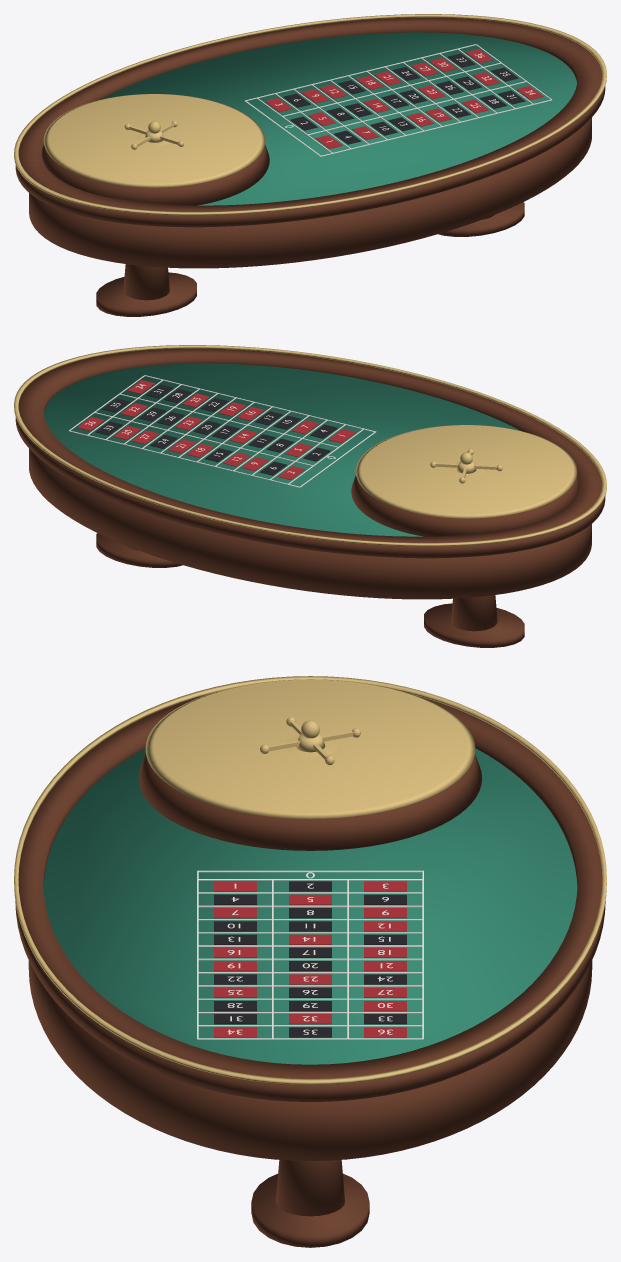
The model's file is roulette.glb.
3 views of the same model, one above another, from view 1: azimuth 30°, elevation 25°; view 2: azimuth 150°, elevation 25°; view 3: azimuth 270°, elevation 25° (orthographic). The views are drawn at different scales.
Visible parts, largest first — view 1: feltTop, rim, skirt, wheelRim, rimBrass, wheelBowl, legFoot, legShaft, legFoot.001; view 2: feltTop, rim, skirt, wheelRim, rimBrass, wheelBowl, legFoot, legShaft, legFoot.001; view 3: feltTop, rim, wheelRim, skirt, wheelBowl, rimBrass, legFoot.001, legShaft.001.
Part boxes in pixels (x1,y1,x2,y2): feltTop: [100, 32, 576, 205]; rim: [15, 17, 605, 227]; skirt: [29, 118, 591, 268]; wheelRim: [43, 94, 265, 187]; rimBrass: [14, 14, 606, 215]; wheelBowl: [41, 144, 269, 205]; legFoot: [96, 272, 196, 316]; legShaft: [123, 264, 169, 300]; legFoot.001: [438, 202, 524, 236]; feltTop: [44, 363, 520, 536]; rim: [15, 348, 605, 558]; skirt: [29, 449, 591, 599]; wheelRim: [355, 425, 577, 518]; rimBrass: [14, 345, 606, 546]; wheelBowl: [351, 475, 579, 536]; legFoot: [424, 603, 524, 647]; legShaft: [451, 595, 497, 631]; legFoot.001: [96, 533, 182, 567]; feltTop: [43, 748, 577, 1064]; rim: [15, 696, 605, 1101]; wheelRim: [145, 679, 475, 818]; skirt: [28, 960, 592, 1160]; wheelBowl: [138, 754, 482, 850]; rimBrass: [14, 676, 606, 1084]; legFoot.001: [251, 1173, 369, 1247]; legShaft.001: [276, 1160, 344, 1216].
Size of the model in its own units: 3.58 by 1.07 by 2.21.
